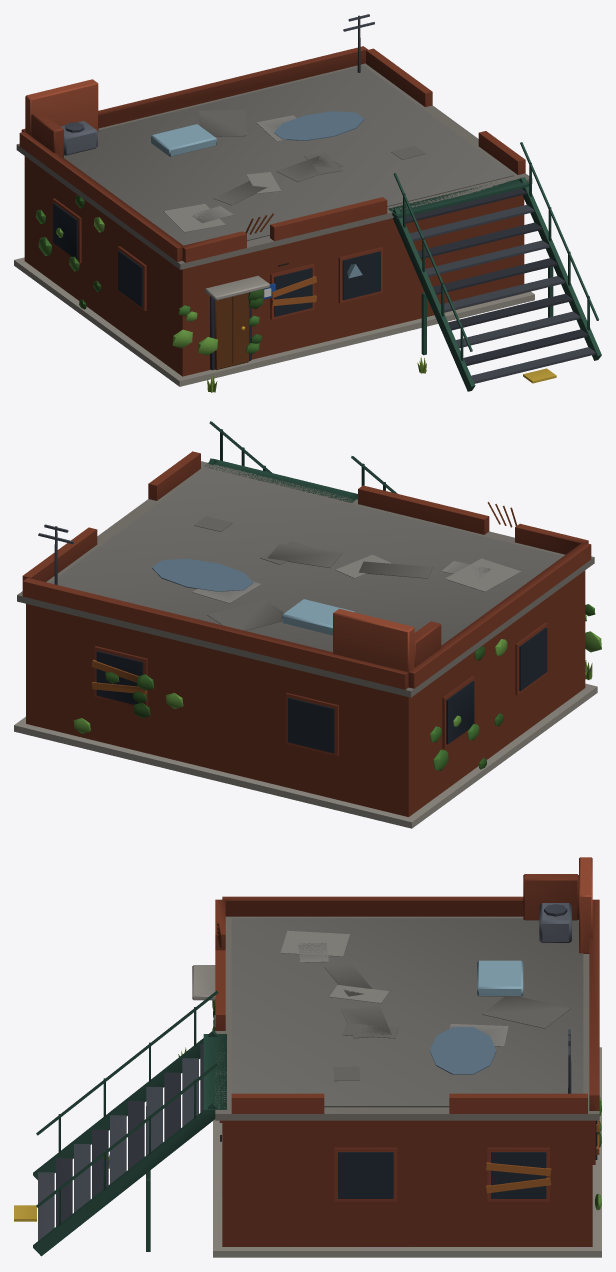
Rendered from p_st_roof_2.glb.
The picture shows the model from 3 angles, top to bottom: view 1: azimuth 30°, elevation 25°; view 2: azimuth 150°, elevation 25°; view 3: azimuth 270°, elevation 25°; orthographic projection. The views are drawn at different scales.
Visible parts, largest first — view 1: body; view 2: body; view 3: body.
Part boxes in pixels (x1=…): body: x1=14, y1=14, x2=601, y2=392; body: x1=14, y1=421, x2=601, y2=828; body: x1=14, y1=857, x2=601, y2=1257.
Size of the model in its own units: 10.56 by 5.11 by 12.7.
